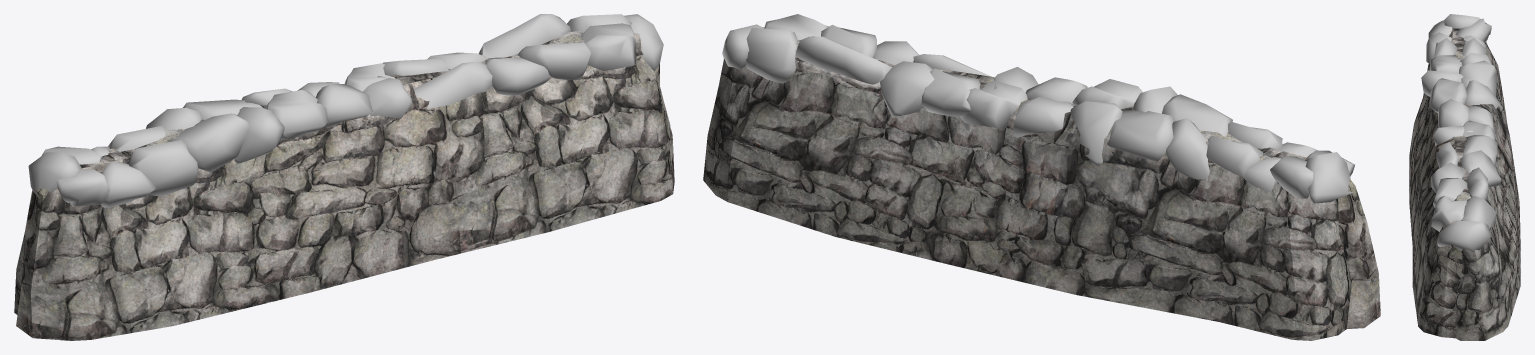
File: Wall_1.fbx
3 renders of one model, left to right at view 1: azimuth 30°, elevation 25°; view 2: azimuth 150°, elevation 25°; view 3: azimuth 270°, elevation 25°, orthographic. The views are drawn at different scales.
Parts seen in each view (by area): view 1: Wall, Rock; view 2: Wall, Rock; view 3: Wall, Rock.
Boxes of the visible parts, left/top/right/bottom form: Wall: left=14, top=31, right=674, bottom=340; Rock: left=28, top=14, right=663, bottom=207; Wall: left=703, top=27, right=1380, bottom=340; Rock: left=722, top=14, right=1354, bottom=203; Wall: left=1409, top=28, right=1520, bottom=340; Rock: left=1421, top=14, right=1502, bottom=252.
Bounding box in the file's own units: 822 × 208 × 171.
